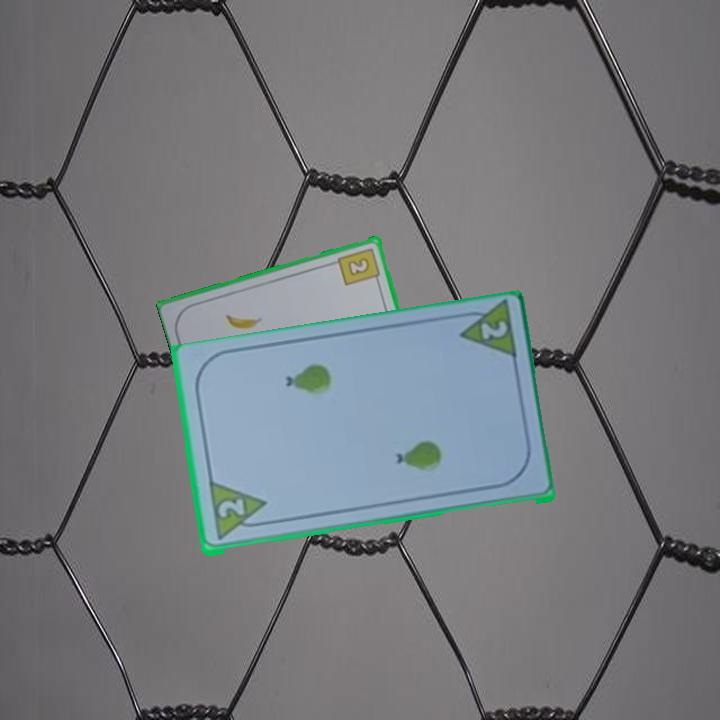2b: (335, 244, 383, 288)
2p: (476, 317, 510, 343), (214, 496, 247, 521)
